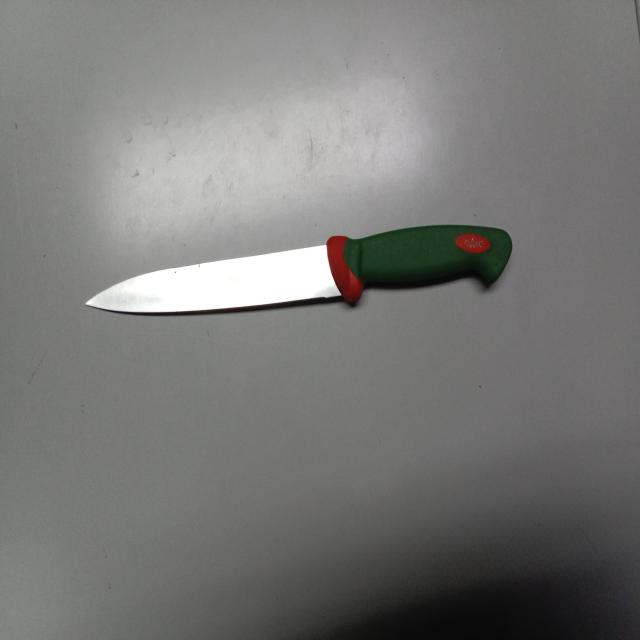Knife: (86, 225, 513, 313)
